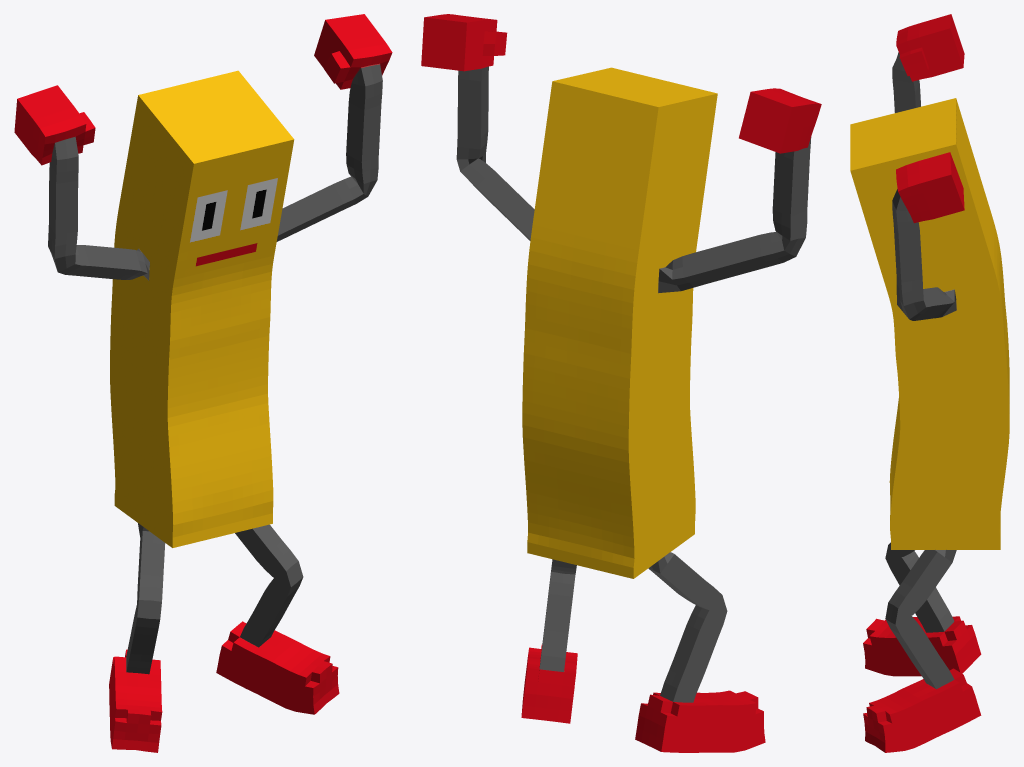
File: potatokun_plank.fbx
3 renders of one model, left to right at view 1: azimuth 30°, elevation 25°; view 2: azimuth 150°, elevation 25°; view 3: azimuth 270°, elevation 25°, orthographic. The views are drawn at different scales.
Parts seen in each view (by area): view 1: PLY PK 60cm; view 2: PLY PK 60cm; view 3: PLY PK 60cm.
Boxes of the visible parts, bbox=[...] form: PLY PK 60cm: bbox=[14, 14, 392, 752]; PLY PK 60cm: bbox=[421, 14, 821, 752]; PLY PK 60cm: bbox=[850, 14, 1009, 752].
Size of the model in its own units: 34.59 by 61.93 by 14.5.
Materials: 1 (1 with a texture image).
